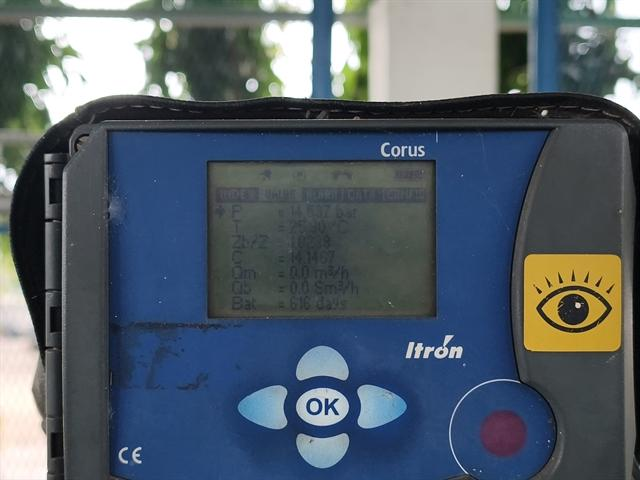digital_screen: (206, 162, 437, 317)
